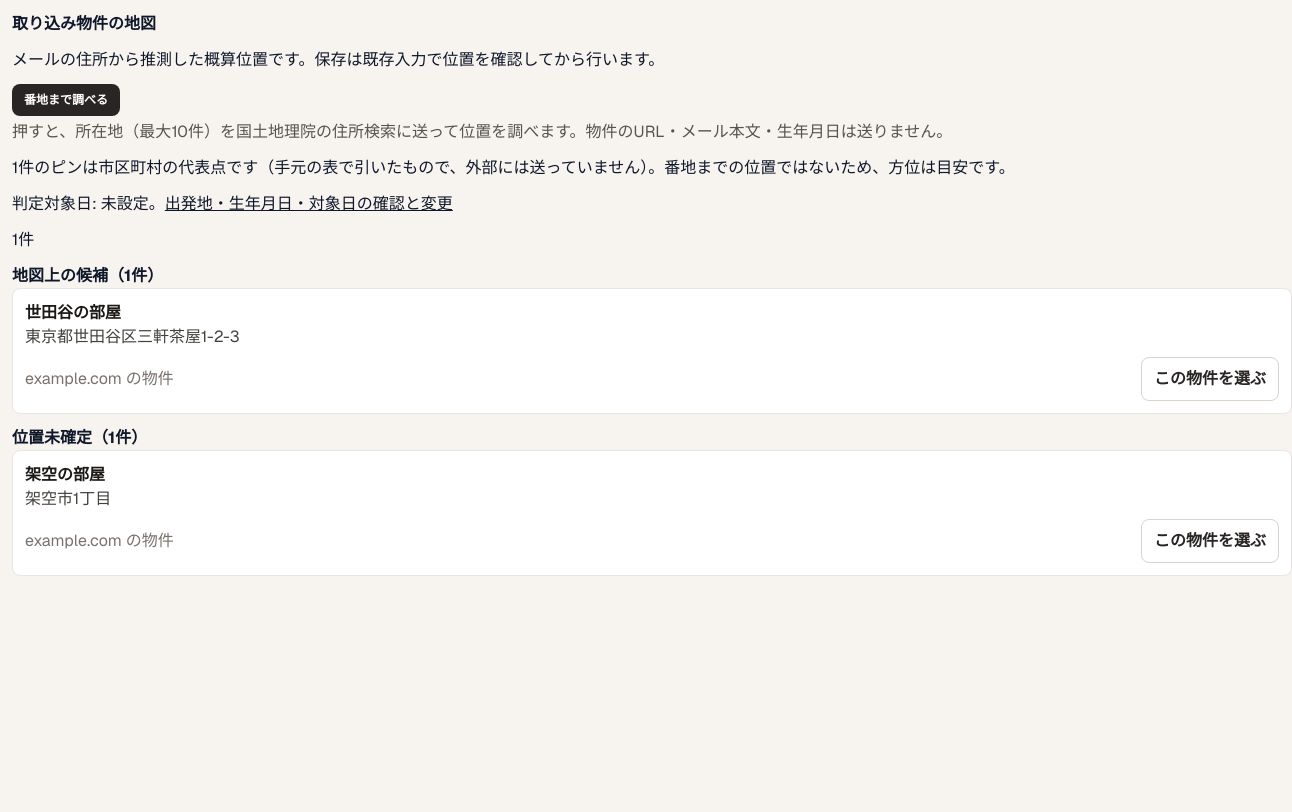
取り込み物件の地図 › 国土地理院が無効でも代表点のピンは消えない
Click the button "番地まで調べる" at (66, 100), box top-left (12, 84), bottom-right (120, 116)
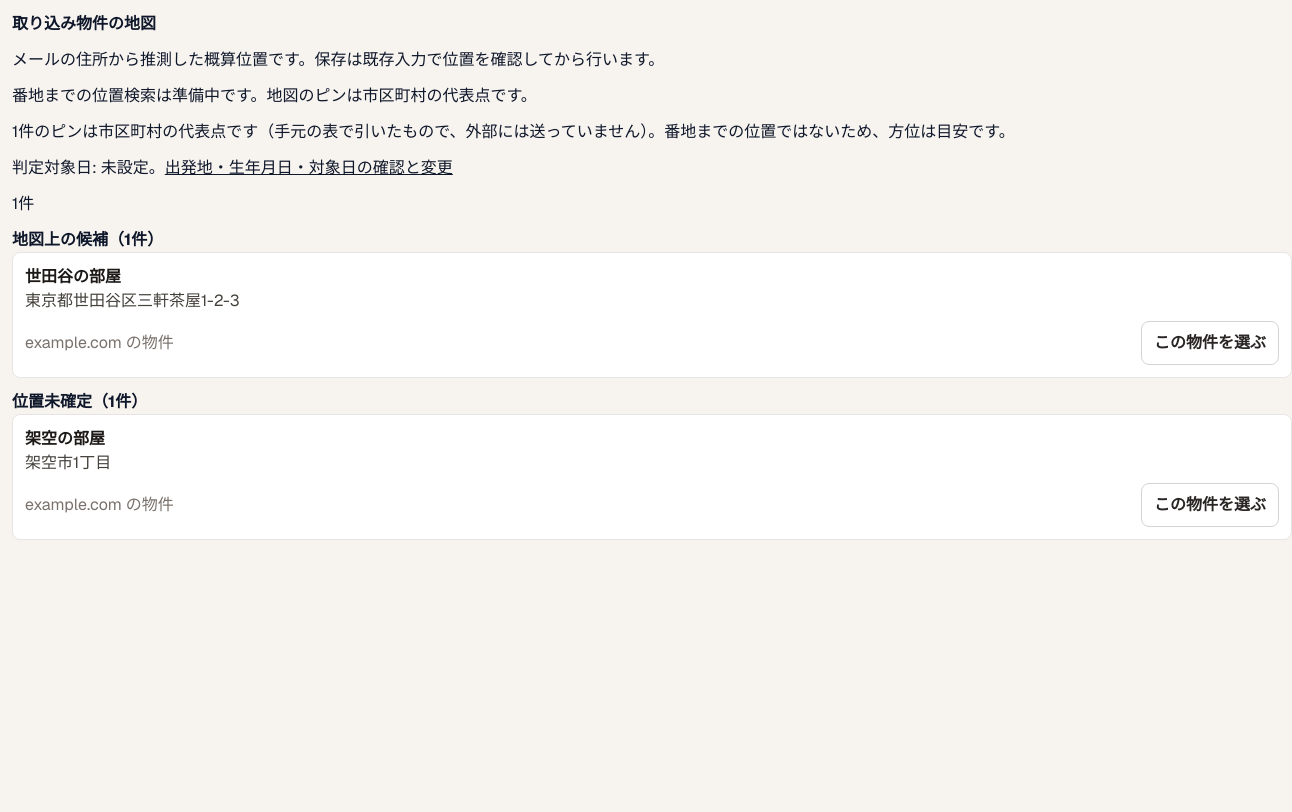
Expected: the text "1件" is shown, top-left (12, 193), bottom-right (34, 214)
Result: the text "番地までの位置検索は準備中です。地図のピンは市区町村の代表点です。" is shown at top-left (12, 85), bottom-right (537, 106)
